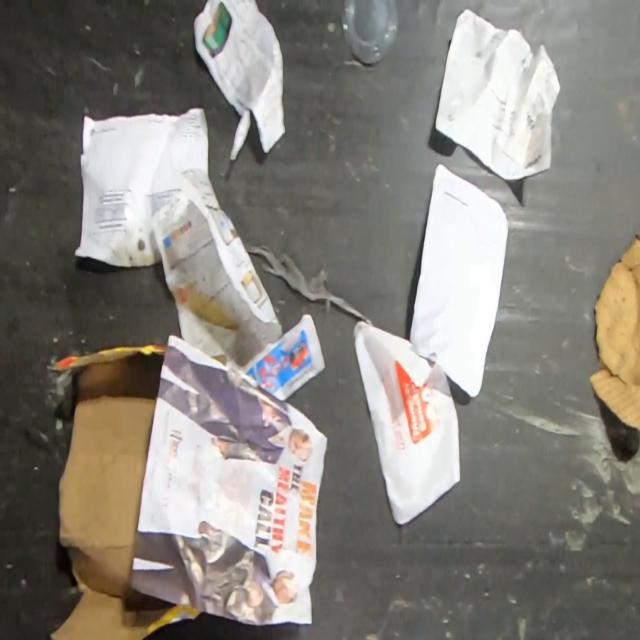cardboard: (43, 341, 204, 639), (586, 234, 640, 432), (211, 354, 226, 367)
rigid_plastic: (341, 0, 400, 66)
soft_plastic: (244, 244, 376, 327)
